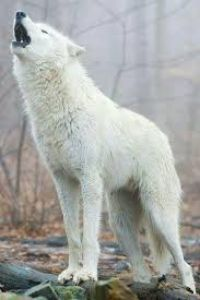wolf: (11, 6, 198, 288)
